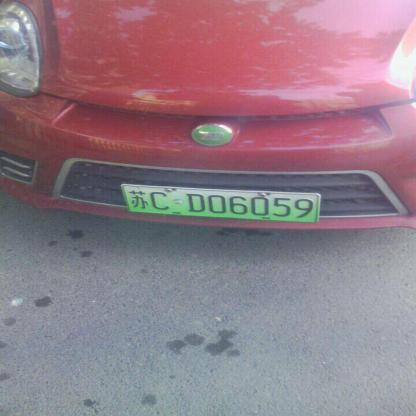lp: (123, 184, 317, 221)
